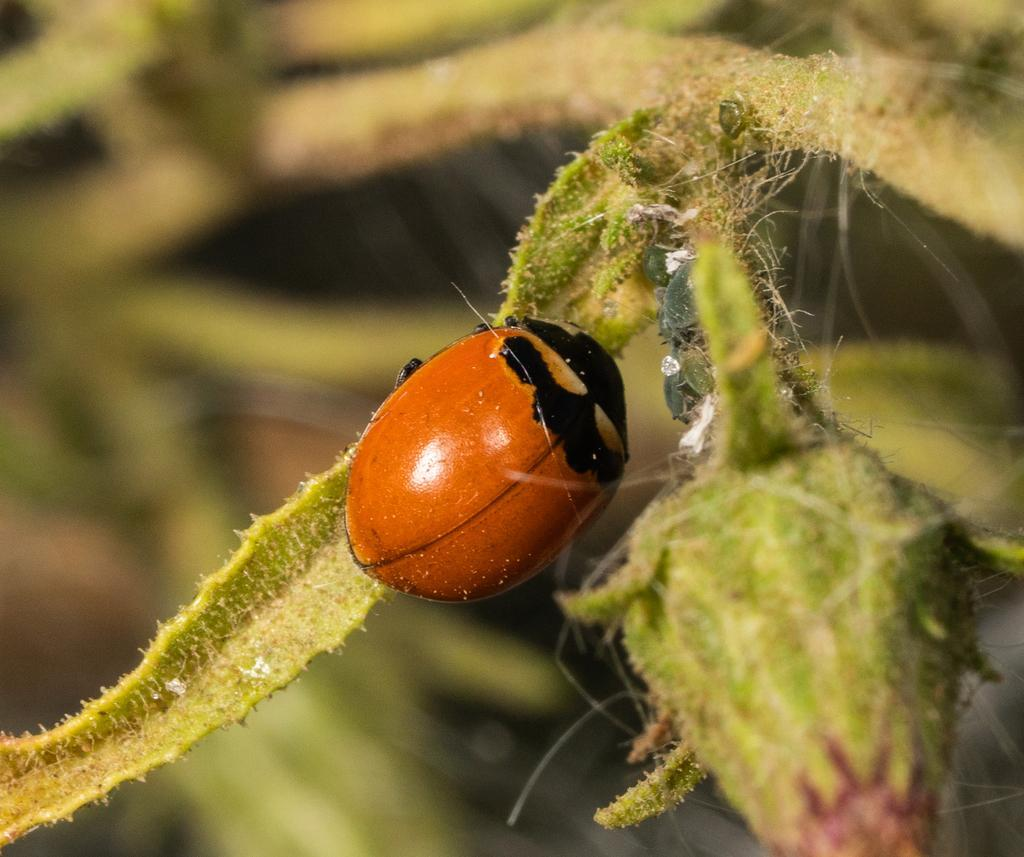ladybug: (344, 314, 636, 609)
